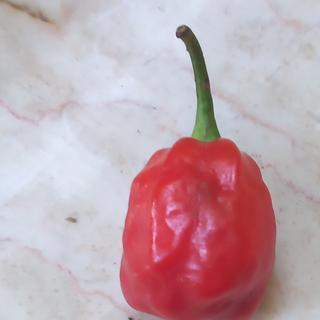Grade-A: (116, 130, 280, 319)
